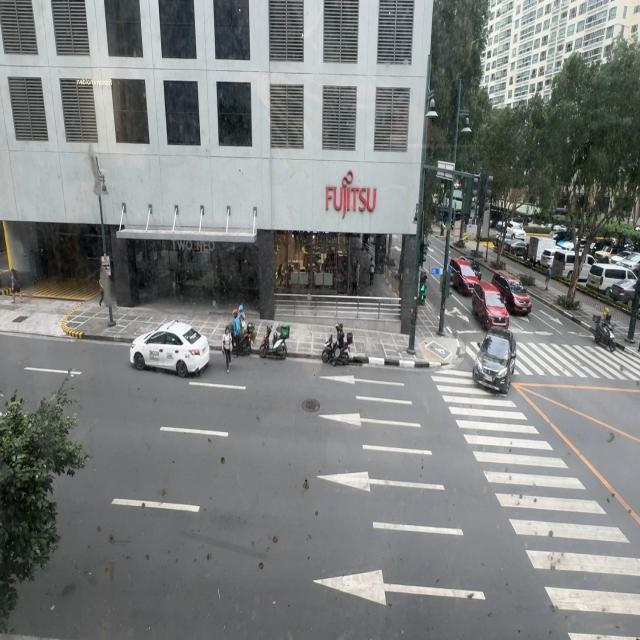jaywalking: (222, 325, 233, 373)
pedestrain: (11, 268, 22, 303), (98, 275, 105, 307), (545, 266, 551, 290), (462, 216, 467, 230)
